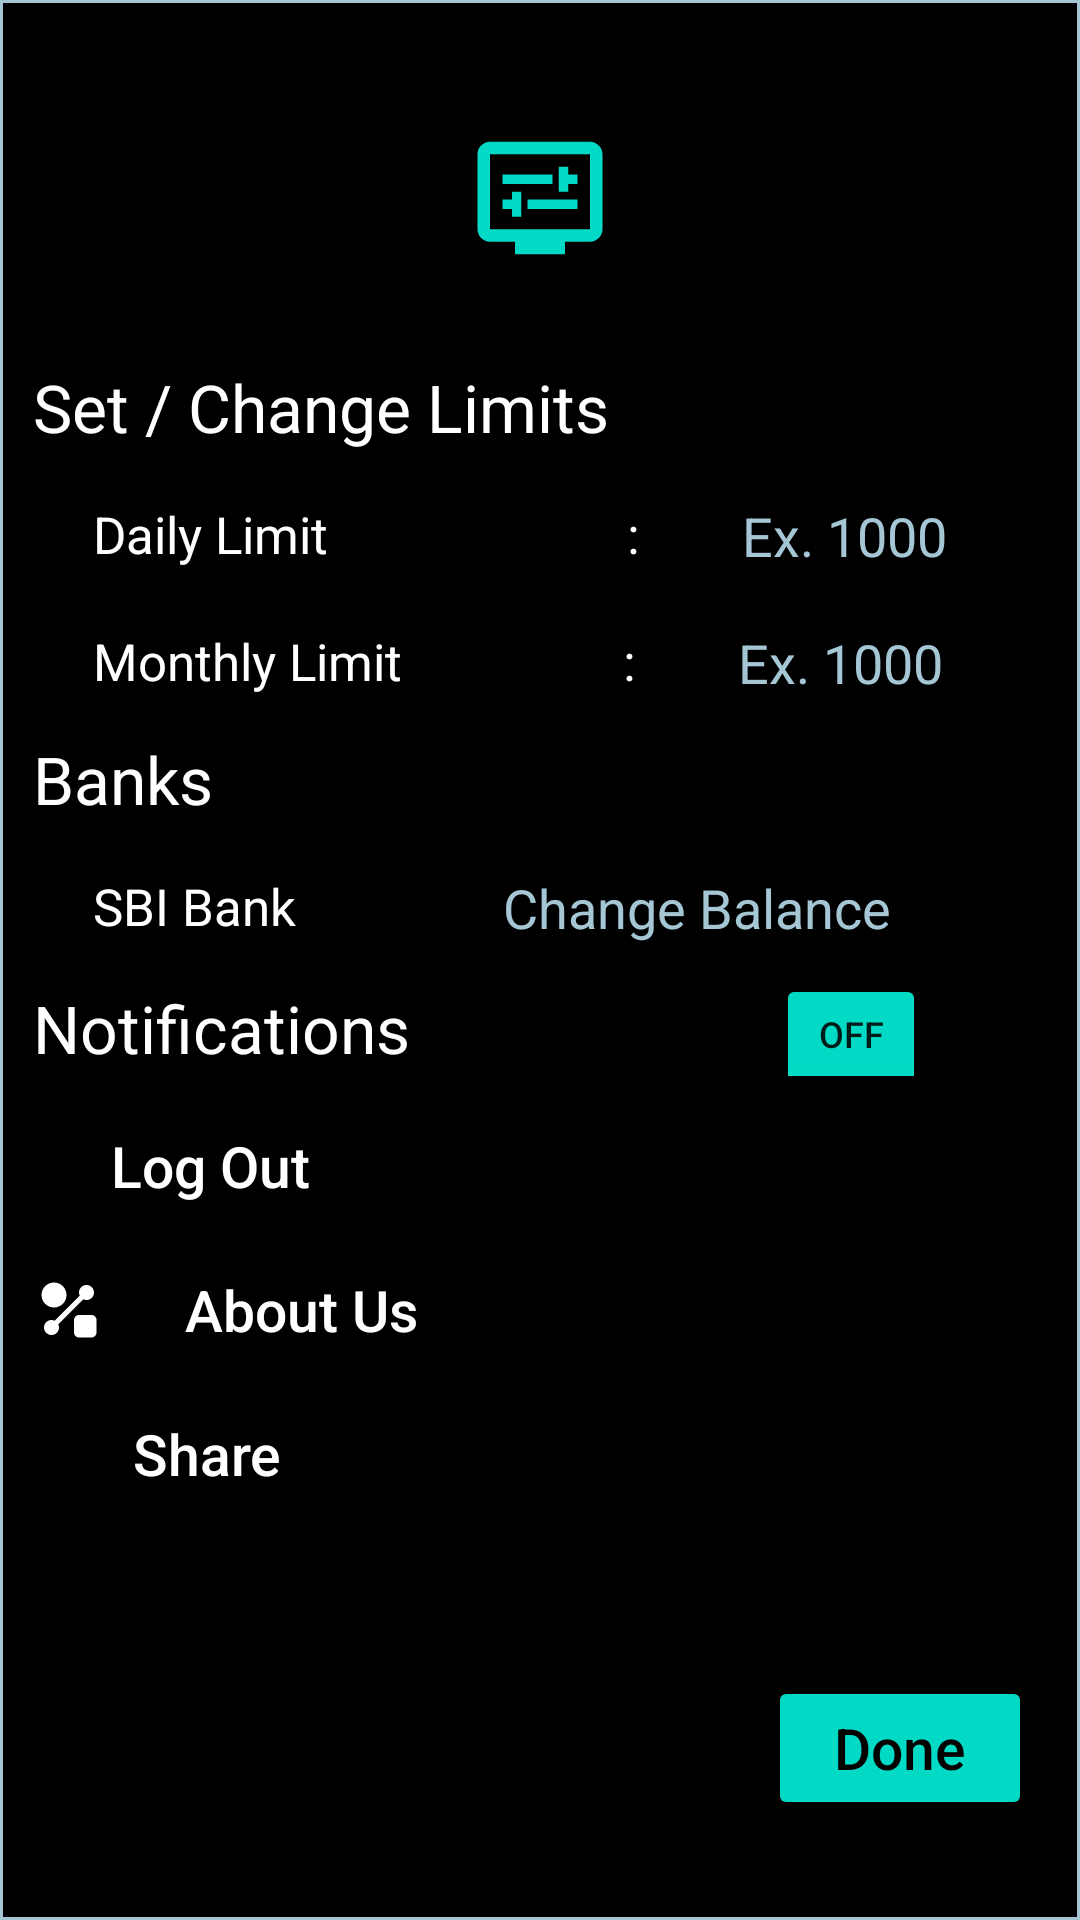

Named icons in this screenshot (1080w x 1920h) and their centers, (x=x, y=y):
display settings: (x=540, y=198)
shape line: (x=69, y=1310)
